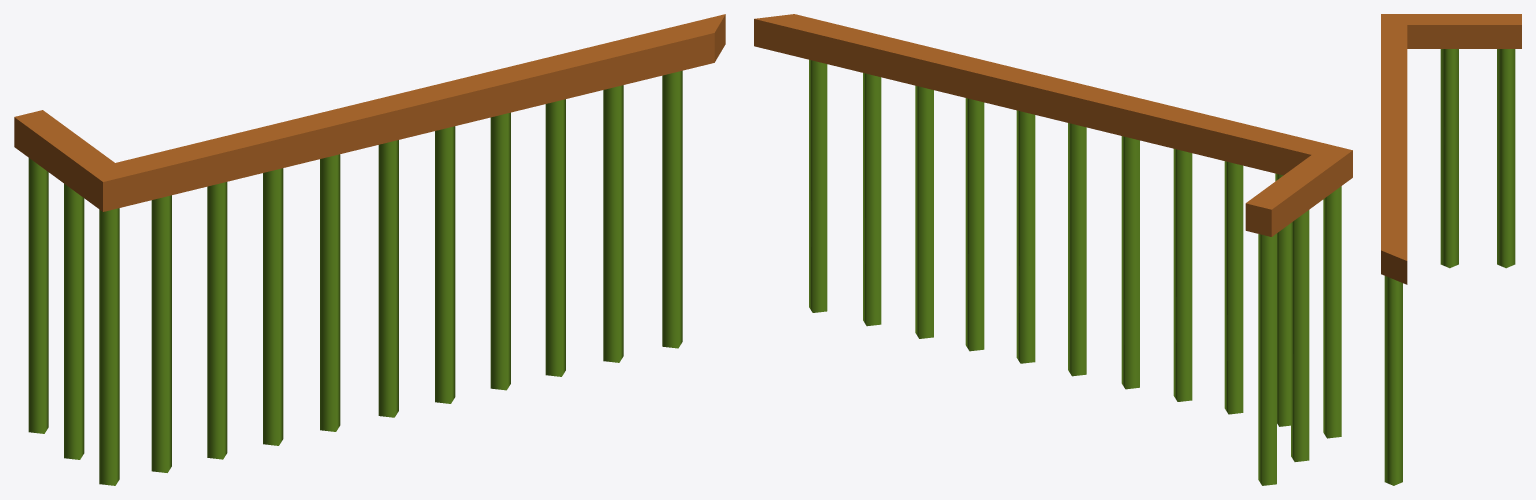
The model's file is BarrotesEsquina3.fbx.
The picture shows the model from 3 angles, left to right: view 1: azimuth 30°, elevation 25°; view 2: azimuth 150°, elevation 25°; view 3: azimuth 270°, elevation 25°; orthographic projection. The views are drawn at different scales.
Visible parts, largest first — view 1: BarandillaEsquina3; view 2: BarandillaEsquina3; view 3: BarandillaEsquina3.
Boxes of the visible parts, x1,y1,x2,y2 form: BarandillaEsquina3: (14,14,725,485); BarandillaEsquina3: (754,14,1352,485); BarandillaEsquina3: (1381,14,1521,485).
Bounding box in the file's own units: 223 × 103 × 53.75.
